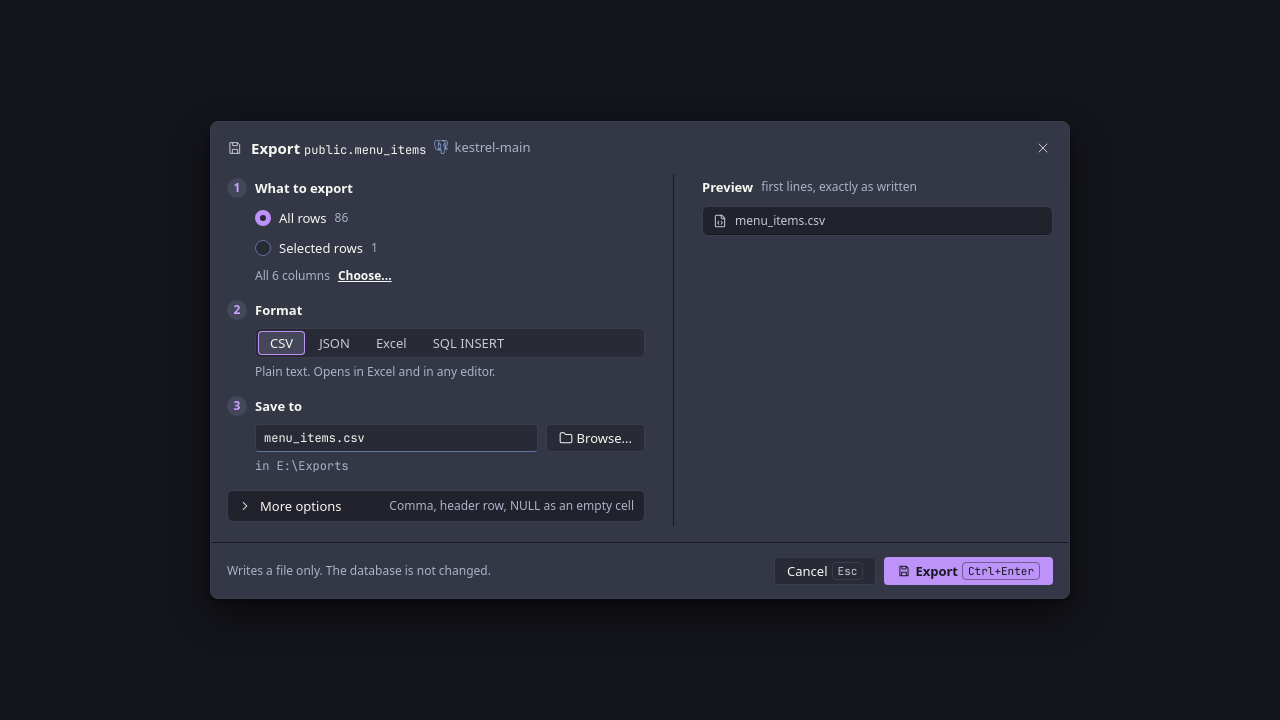
Test: browse_uses_the_save_dialog
This screenshot has width=1280, height=720.
Click the button "Browse...". click: click(595, 438)
box: [546,424,645,452]
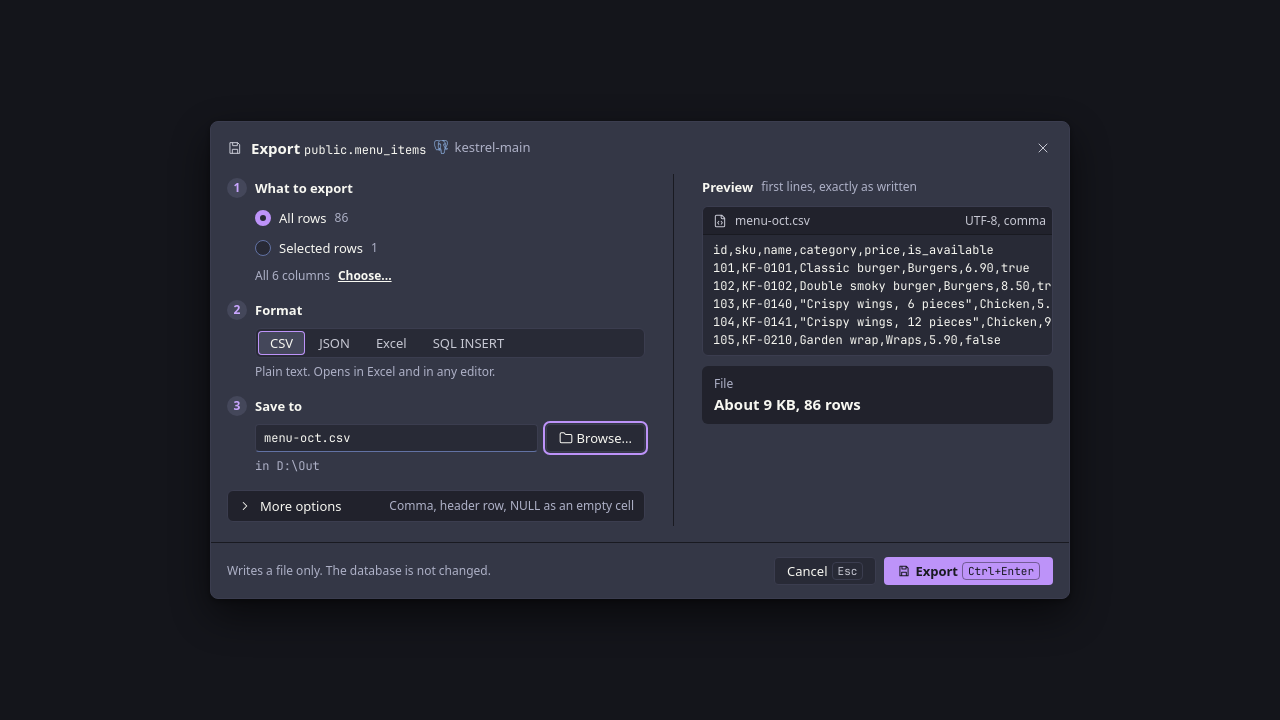
Expected: the field named "File name" holds "menu-oct.csv", [255,424,538,452]
Expected: the text "in D:\\Out" is shown, [255,458,320,474]
